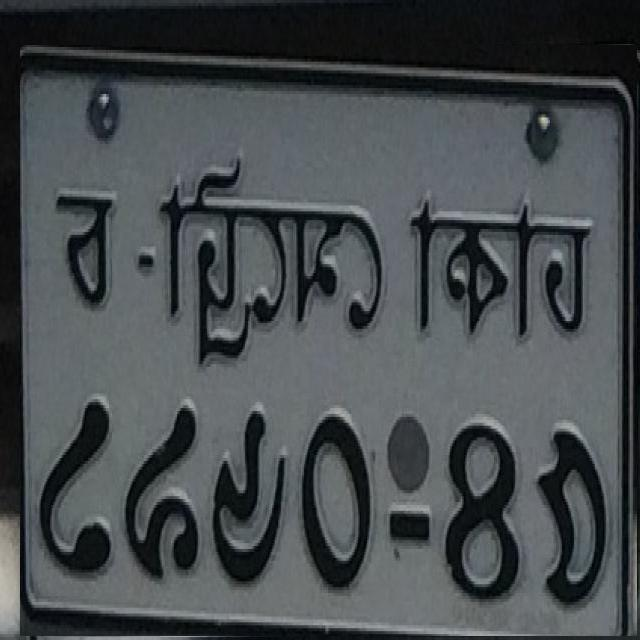cng: (272, 154, 499, 365)
numberplate: (20, 45, 637, 636)
